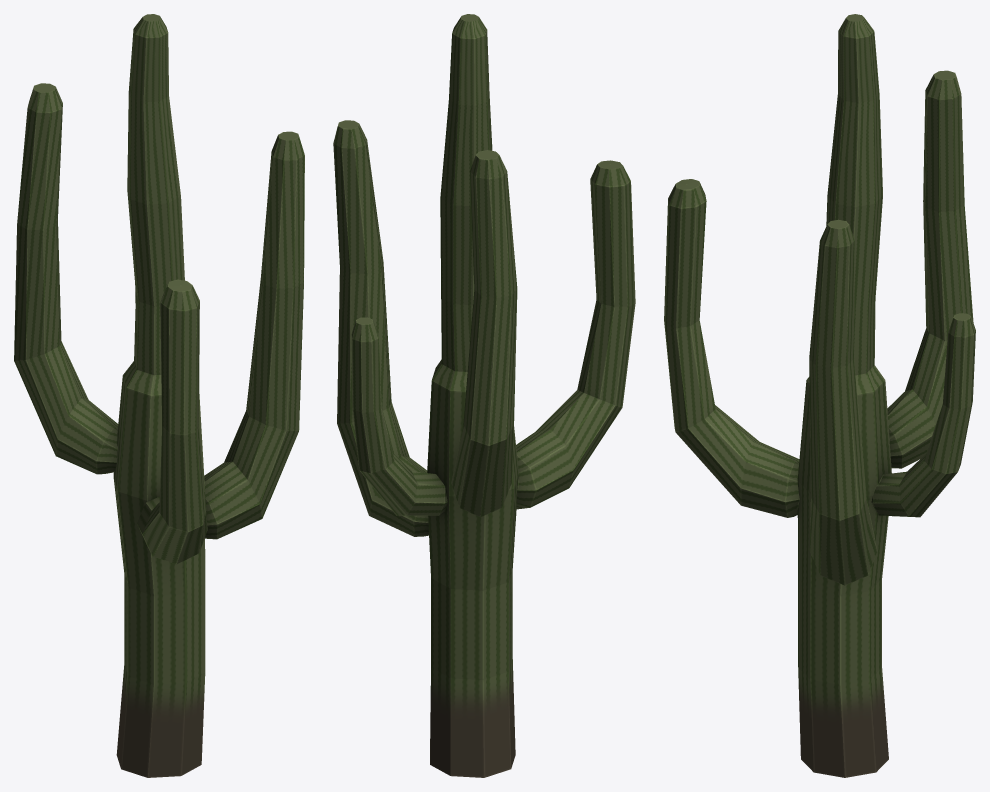
The model's file is Saguaro.dae.
3 renders of one model, left to right at view 1: azimuth 30°, elevation 25°; view 2: azimuth 150°, elevation 25°; view 3: azimuth 270°, elevation 25°, orthographic.
Visible parts, largest first — view 1: Saguaro_mesh; view 2: Saguaro_mesh; view 3: Saguaro_mesh.
Part boxes in pixels (left/top/right/bottom): Saguaro_mesh: left=14, top=14, right=304, bottom=777; Saguaro_mesh: left=333, top=14, right=635, bottom=777; Saguaro_mesh: left=664, top=14, right=975, bottom=777.
Size of the model in its own units: 6.67 by 20.42 by 7.8.
Materials: 1 (1 with a texture image).
